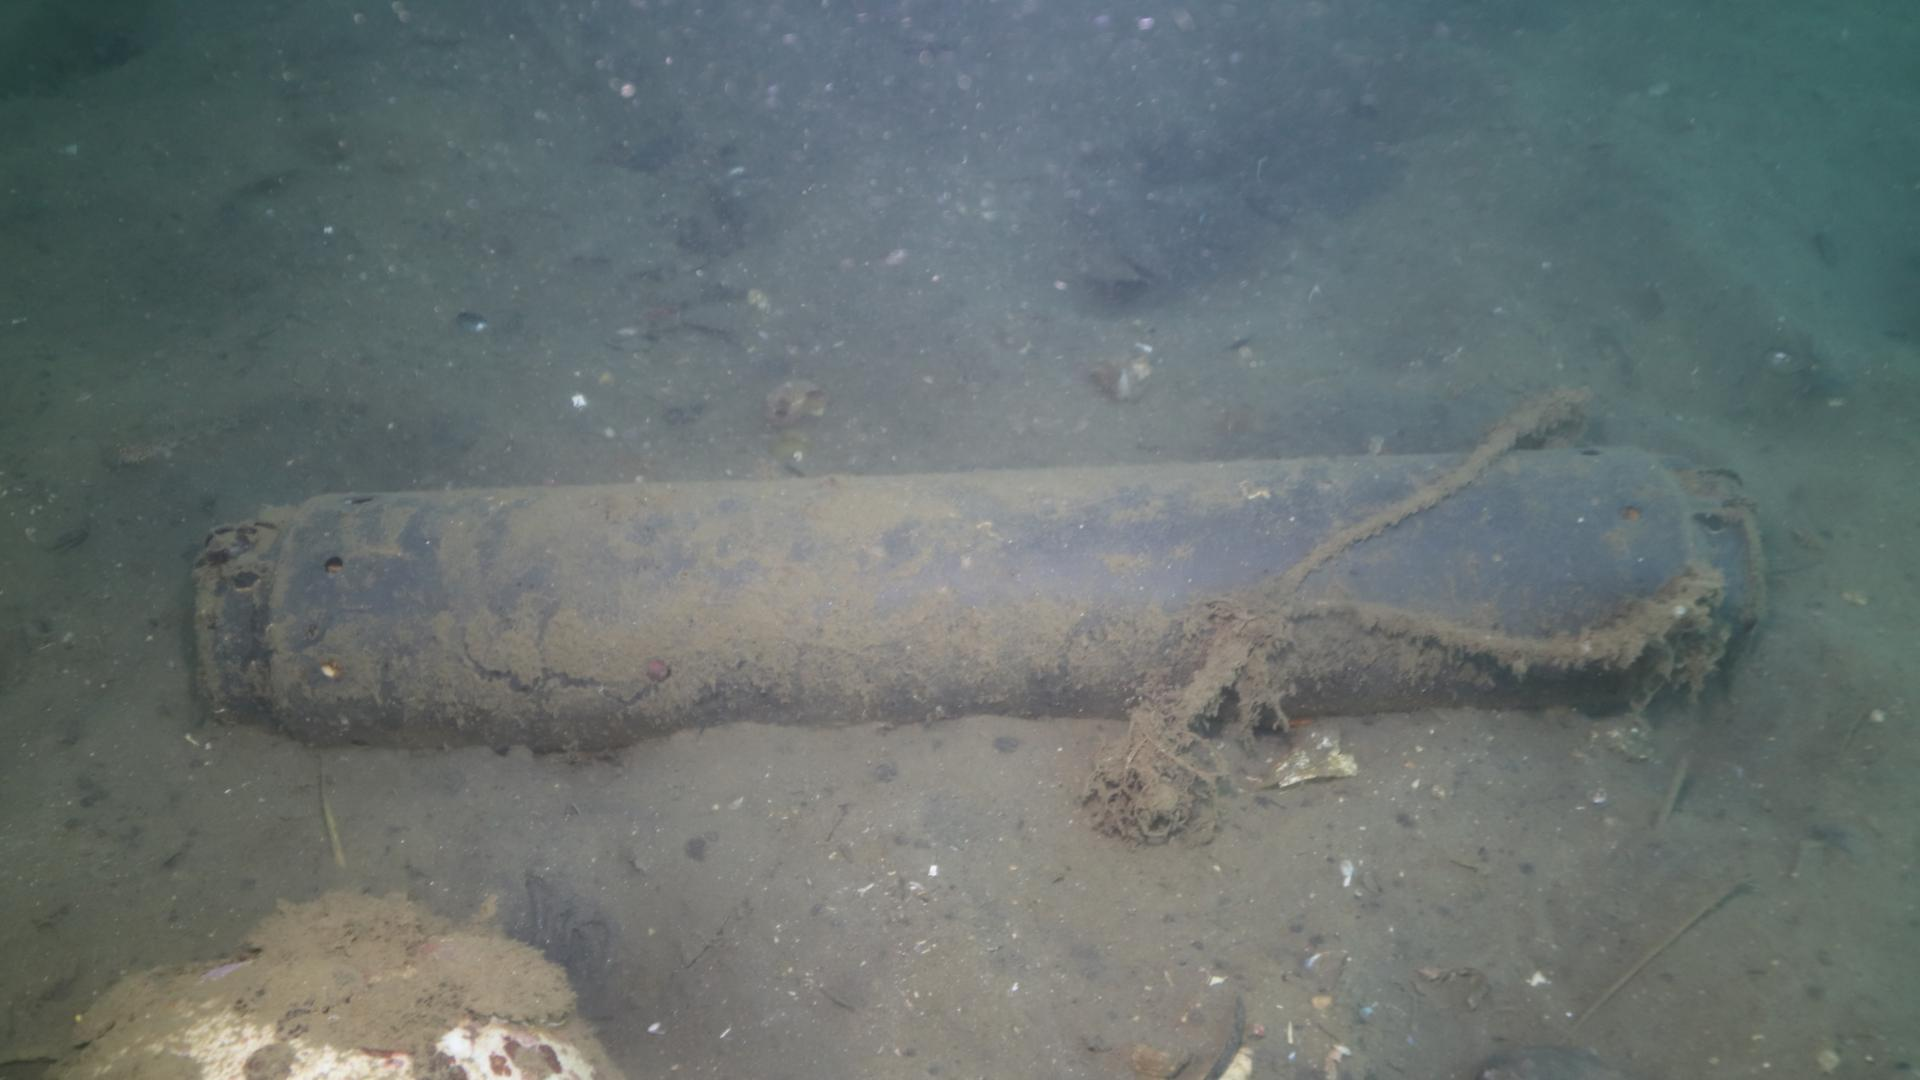bundle of ropes: (1261, 386, 1713, 670)
eel fish trap: (189, 440, 1763, 746)
